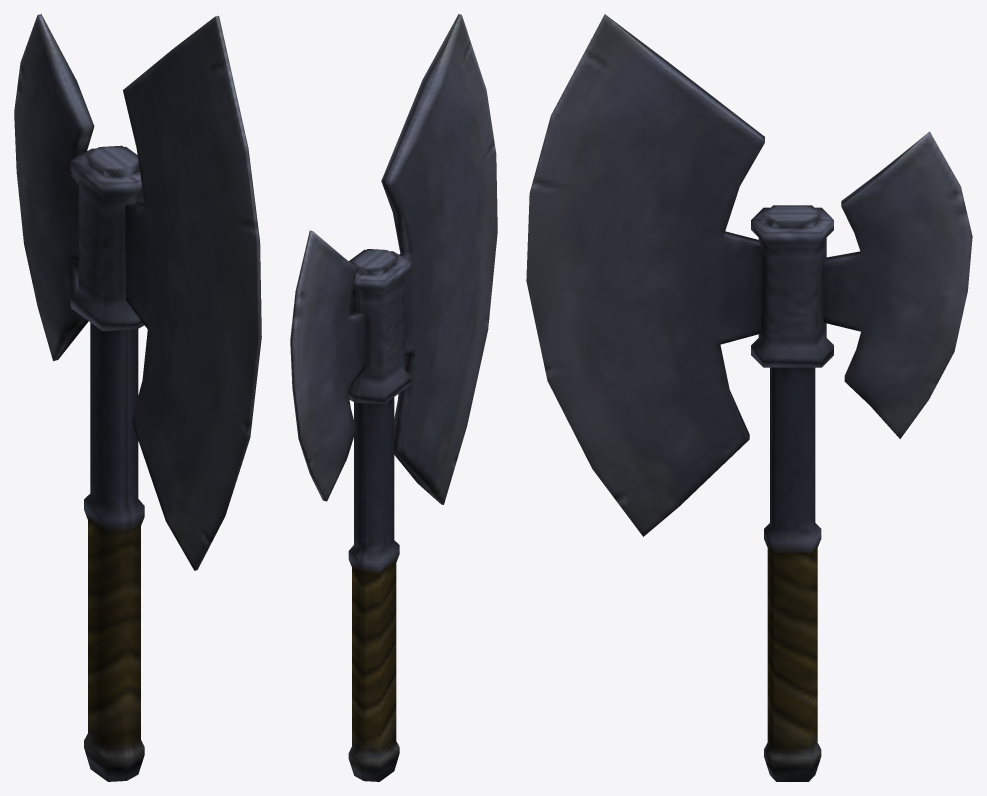
File: Axe2.fbx
The picture shows the model from 3 angles, left to right: view 1: azimuth 30°, elevation 25°; view 2: azimuth 150°, elevation 25°; view 3: azimuth 270°, elevation 25°; orthographic projection. The views are drawn at different scales.
Parts seen in each view (by area): view 1: polySurface36; view 2: polySurface36; view 3: polySurface36.
Part boxes in pixels (<box>): polySurface36: <box>14,14,261,781</box>; polySurface36: <box>290,14,497,781</box>; polySurface36: <box>526,14,972,781</box>.
Bounding box in the file's own units: 0.0401 × 0.5741 × 0.3052.
1 material, 1 textured.
